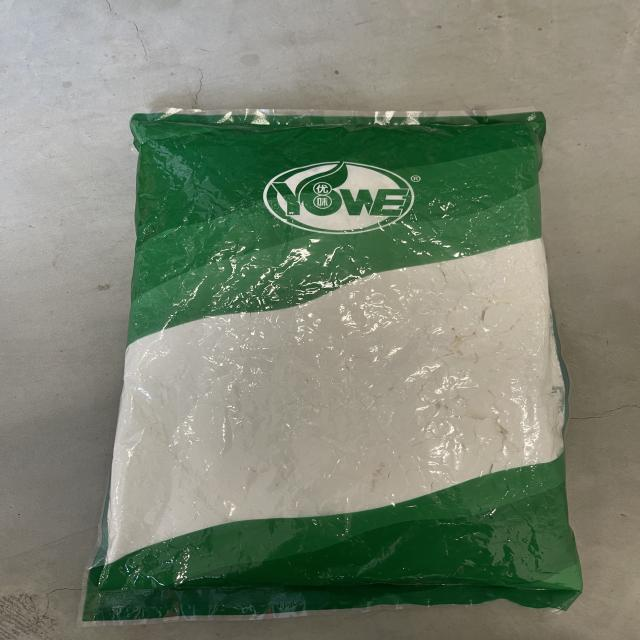object_name: (126, 117, 558, 606)
